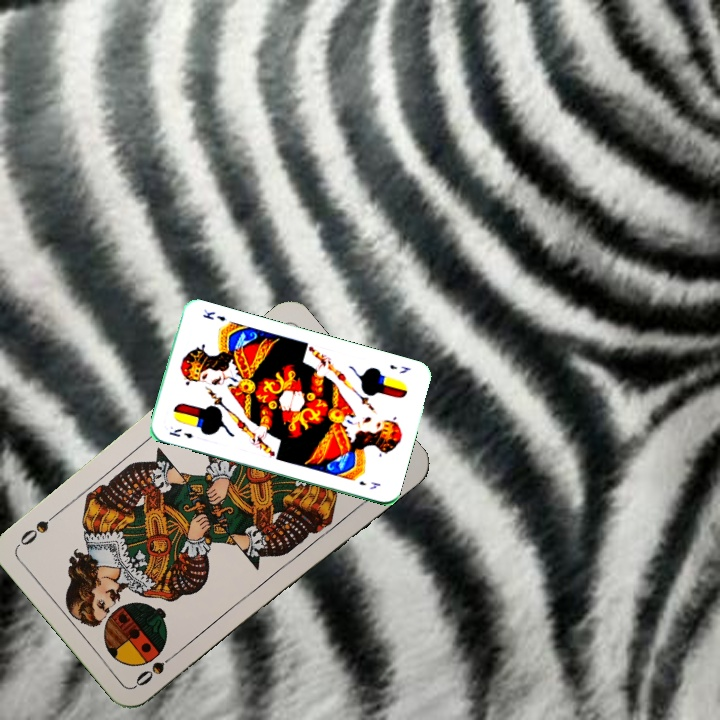EK: (165, 424, 195, 441), (386, 360, 413, 376)
SO: (131, 647, 182, 689)
